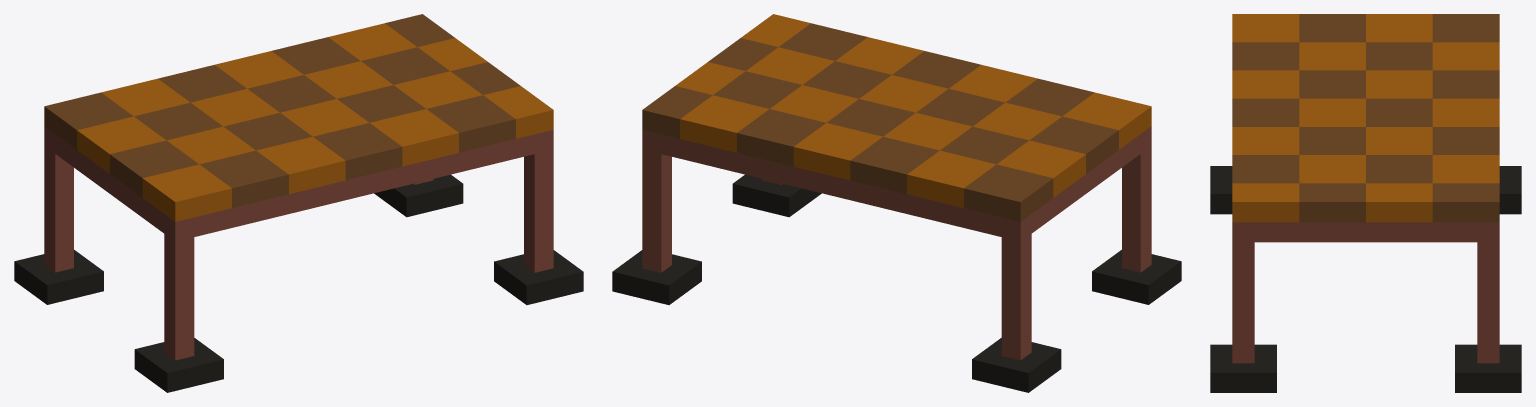
File: Medieval Assets-12-Decoration - Table - Checker Variant4.obj
The picture shows the model from 3 angles, left to right: view 1: azimuth 30°, elevation 25°; view 2: azimuth 150°, elevation 25°; view 3: azimuth 270°, elevation 25°; orthographic projection.
Parts seen in each view (by area): view 1: Decoration - Table - Checker Variant4; view 2: Decoration - Table - Checker Variant4; view 3: Decoration - Table - Checker Variant4.
Boxes of the visible parts, x1,y1,x2,y2 form: Decoration - Table - Checker Variant4: [14, 14, 583, 392]; Decoration - Table - Checker Variant4: [612, 14, 1181, 392]; Decoration - Table - Checker Variant4: [1210, 14, 1521, 392].
Size of the model in its own units: 2.2 by 0.9 by 1.4.
1 material, 1 textured.
